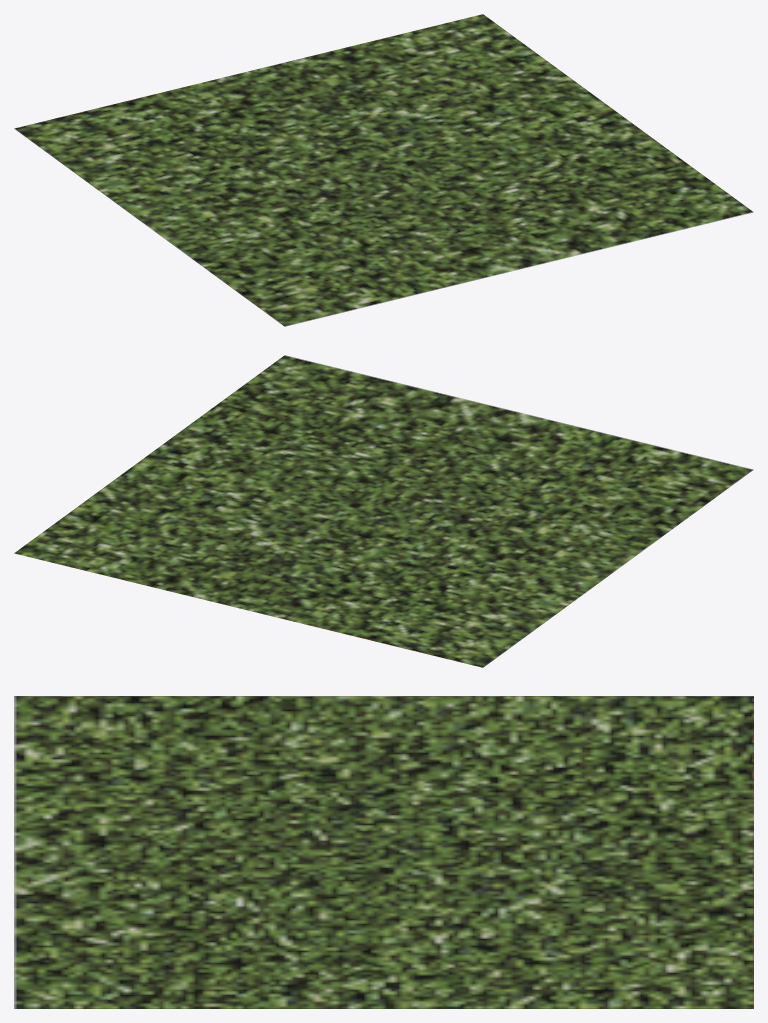
The model's file is Scrub.obj.
3 views of the same model, one above another, from view 1: azimuth 30°, elevation 25°; view 2: azimuth 150°, elevation 25°; view 3: azimuth 270°, elevation 25° (orthographic). The views are drawn at different scales.
Visible parts, largest first — view 1: Grid_Grid.003; view 2: Grid_Grid.003; view 3: Grid_Grid.003.
Boxes of the visible parts, x1,y1,x2,y2 form: Grid_Grid.003: (14,14,753,326); Grid_Grid.003: (14,355,753,667); Grid_Grid.003: (14,696,753,1008).
Size of the model in its own units: 1 by 0 by 1.
